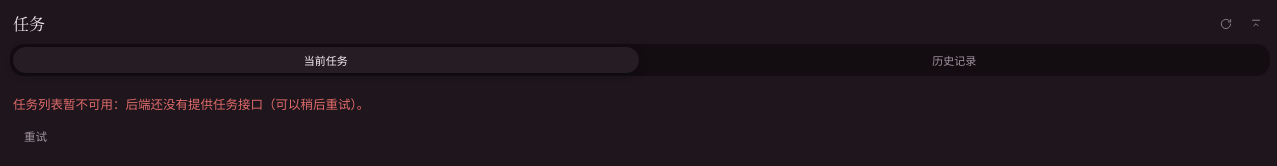
Test: 加载、失败与重试 › 接口不可用：显示原因与重试，不显示空列表
Expected: the text "当前没有任务" is not shown
Click the button "重试" at (36, 136), box [13,123,58,149]
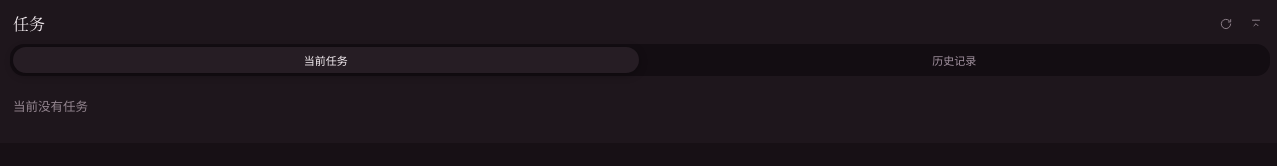
Result: the text "当前没有任务" is shown at [13,98,88,115]
